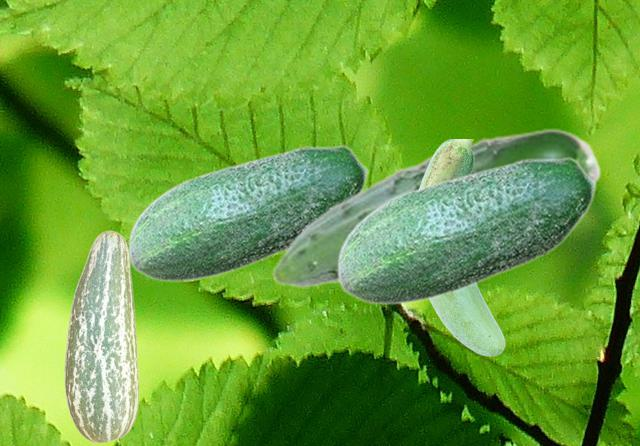cucumber: (271, 128, 601, 287), (336, 156, 596, 304), (127, 144, 368, 281), (419, 139, 504, 355), (64, 230, 138, 442)
